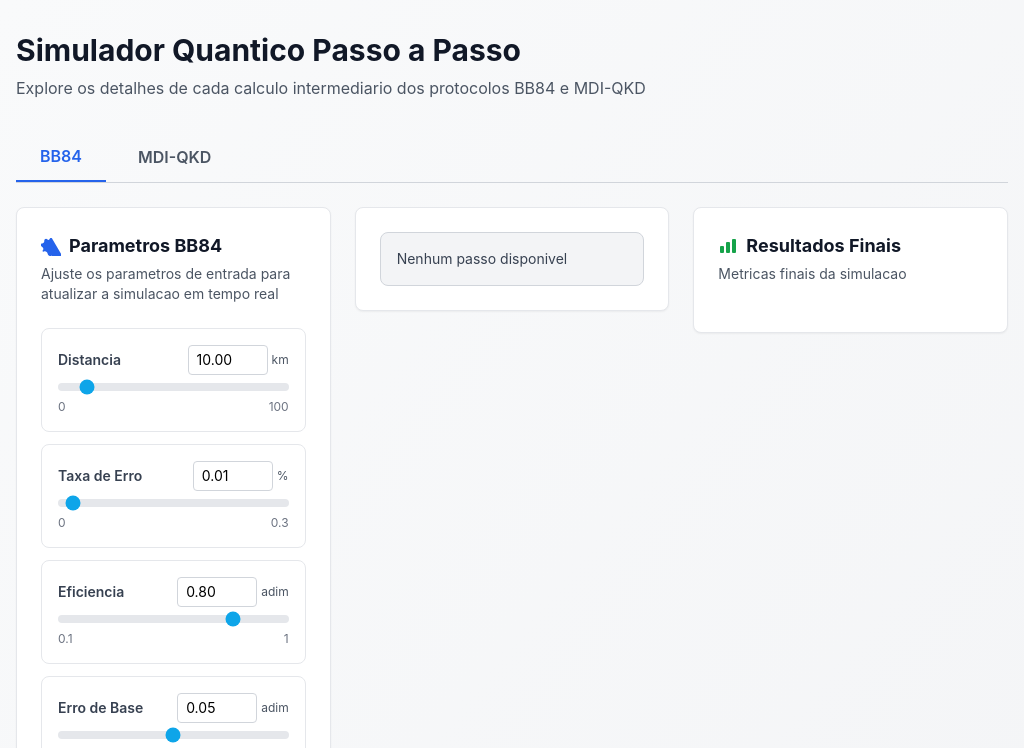
StepByStepDashboard › switches to MDI-QKD parameters when tab changes
Click the button "MDI-QKD" at (175, 157), box [114,132,235,182]
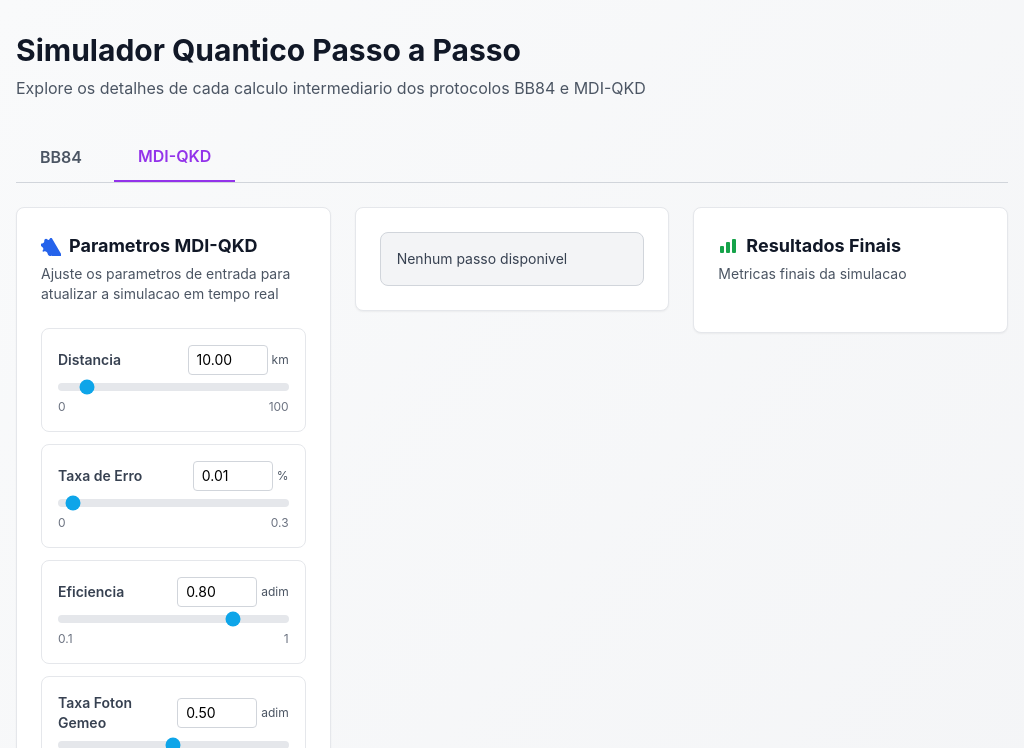
expect the heading "Parametros MDI-QKD" is shown: met, box [41,235,258,256]
